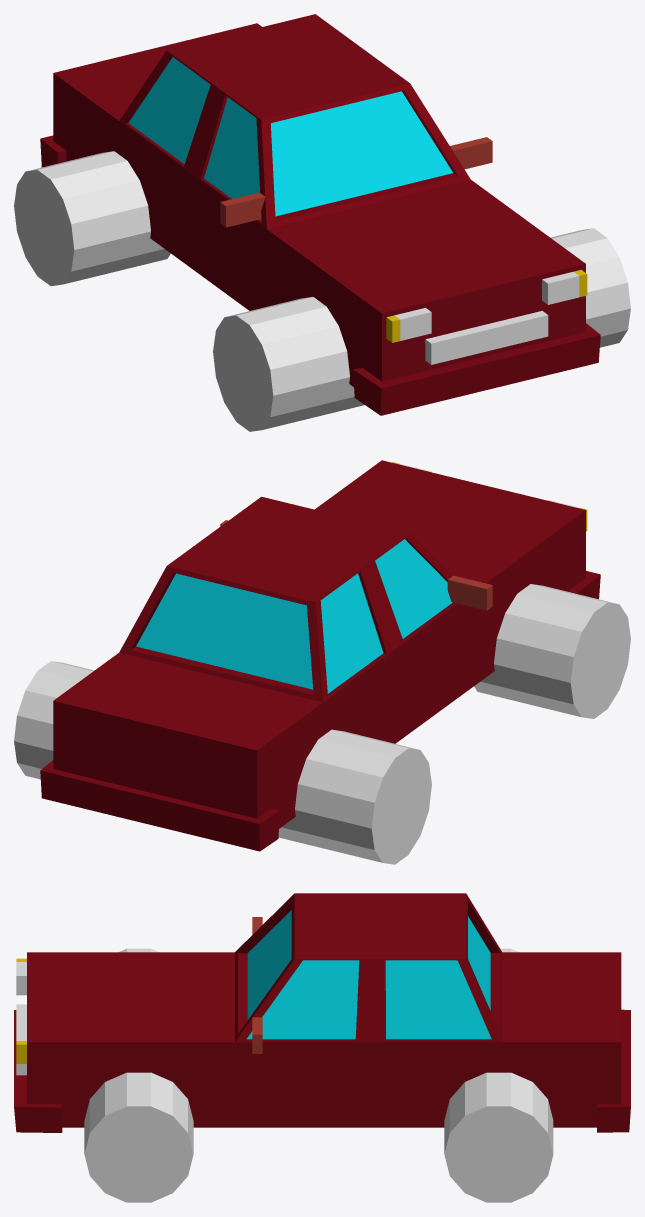
File: car red.fbx
3 views of the same model, one above another, from view 1: azimuth 30°, elevation 25°; view 2: azimuth 150°, elevation 25°; view 3: azimuth 270°, elevation 25° (orthographic). The views are drawn at different scales.
Visible parts, largest first — view 1: Cube, Cylinder.001, Cylinder.002, Cube.003, Cube.001, Cube.002; view 2: Cube, Cylinder.002, Cylinder.001, Cube.002; view 3: Cube, Cylinder.001, Cylinder.002, Cube.001, Cube.002.
Part boxes in pixels (box(x1,y1,x2,y2)): Cube: box(40, 14, 600, 415); Cylinder.001: box(213, 228, 630, 431); Cylinder.002: box(14, 151, 170, 286); Cube.003: box(425, 311, 548, 364); Cube.001: box(386, 269, 587, 342); Cube.002: box(220, 137, 492, 227); Cube: box(40, 460, 600, 851); Cylinder.002: box(14, 661, 431, 864); Cylinder.001: box(474, 584, 630, 718); Cube.002: box(220, 520, 492, 610); Cube: box(14, 893, 630, 1132); Cylinder.001: box(84, 948, 193, 1202); Cylinder.002: box(444, 948, 553, 1202); Cube.001: box(16, 958, 26, 1063); Cube.002: box(252, 917, 262, 1053).
Bounding box in the file's own units: 685 × 400 × 1131.
